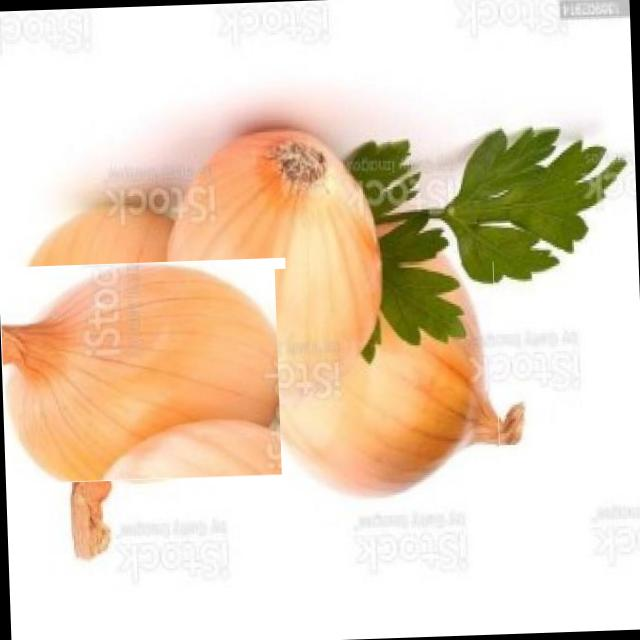Onion: (0, 227, 263, 515), (163, 130, 392, 406), (274, 261, 501, 504)
